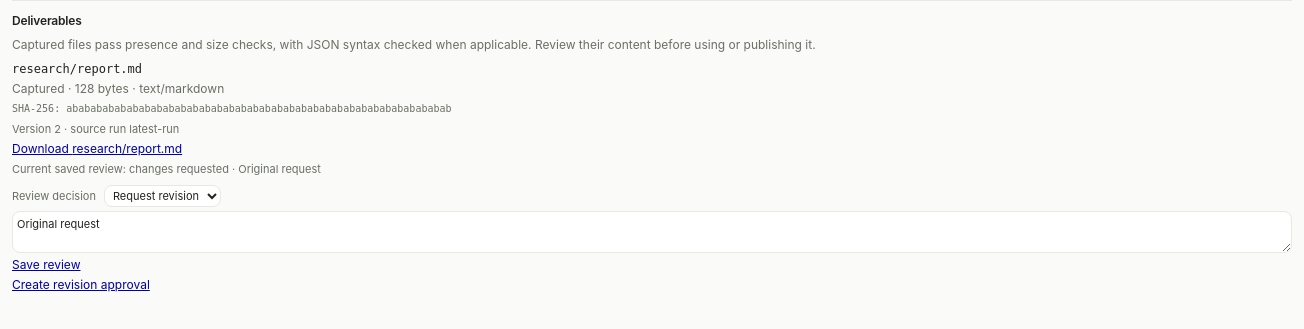
Test case: run deliverables › uses a new revision command after adopting a conflicting saved review, preserving the local draft
The width and height of the screenshot is (1304, 329).
Replace the text in the text box named "Revision note for research/report.md" with "My unsaved draft" at x=652, y=232, box [12,211,1292,253]
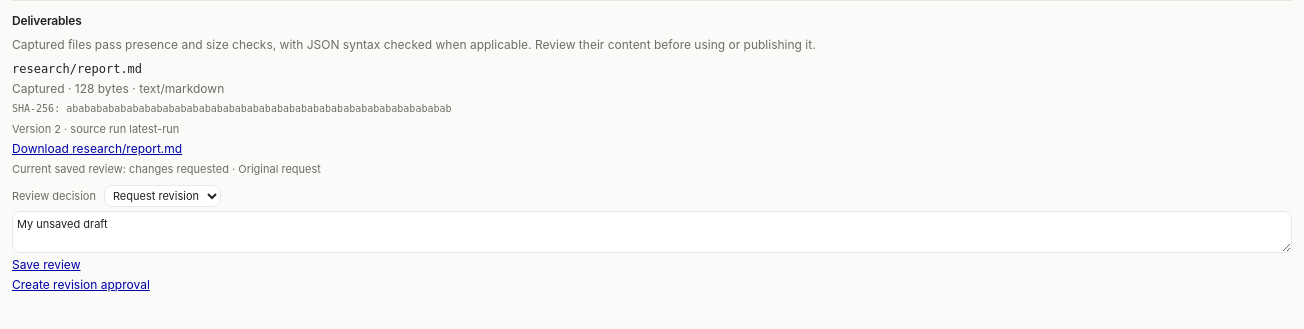
Click the button "Create revision approval" at x=81, y=285, box [12,277,150,293]
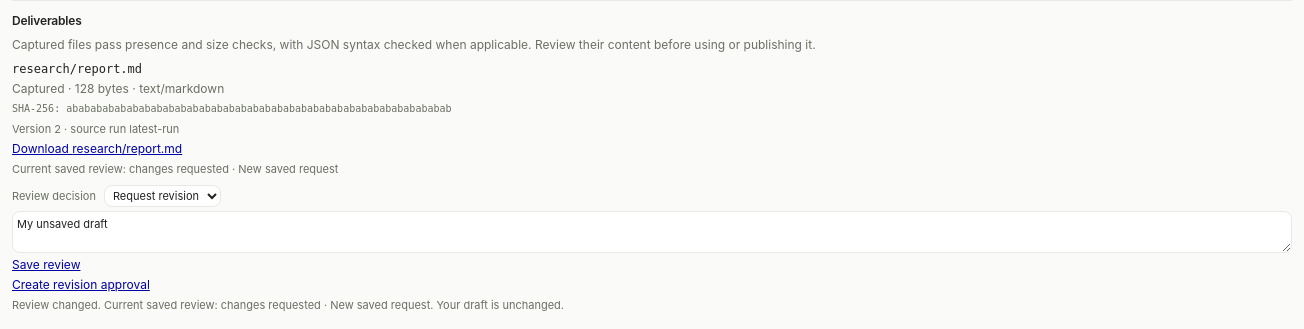
Expected: the dropdown named "Review decision for research/report.md" shows "Request revision", [104,185,221,207]
Result: the message shows "Your draft is unchanged." at [12,298,564,312]
Click the button "Create revision approval" at x=81, y=285, box [12,277,150,293]
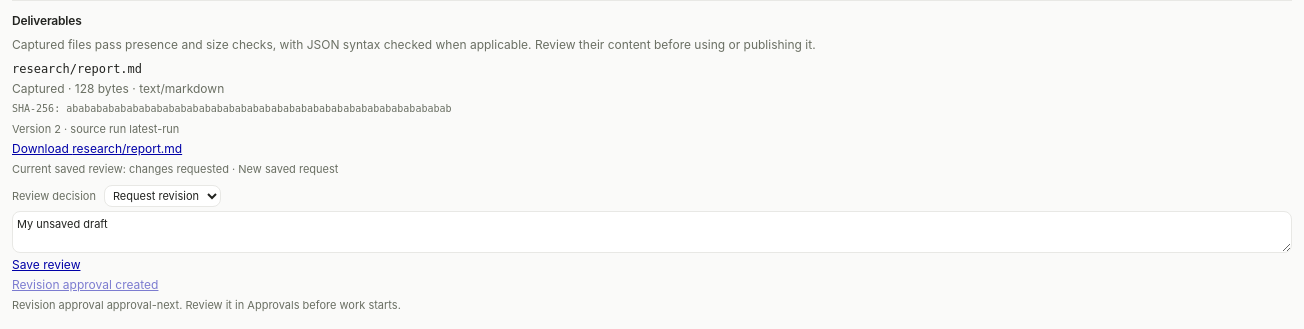
Result: the button "Revision approval created" is shown at [12,277,158,293]
